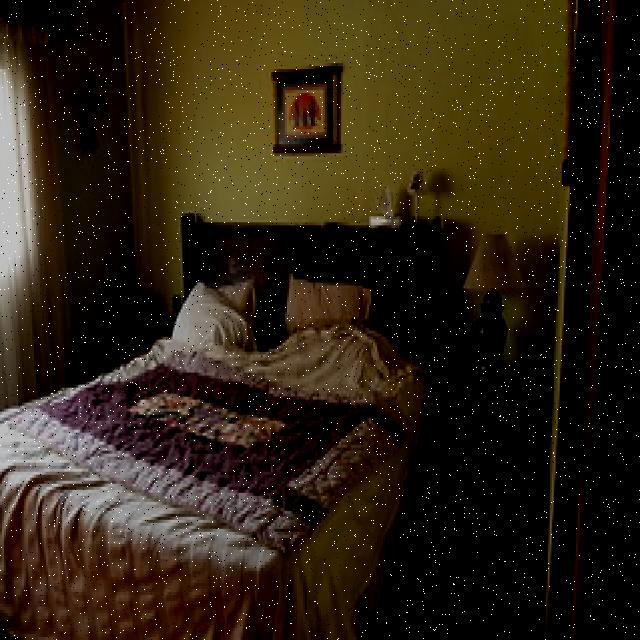bed: (0, 210, 443, 639)
